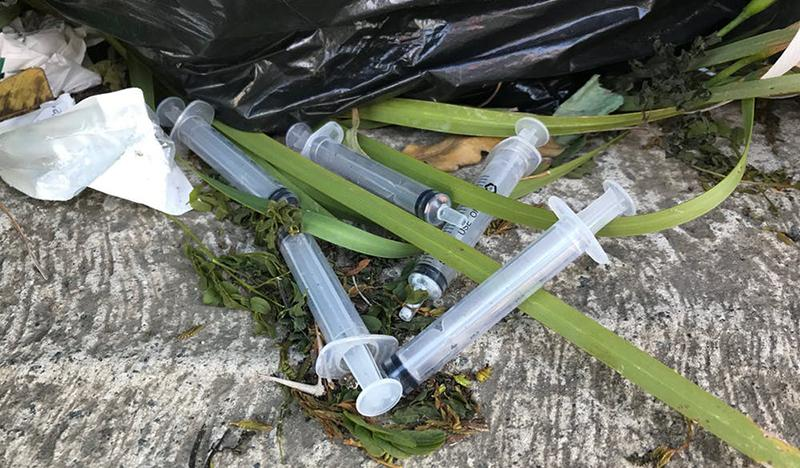Syringe: (382, 181, 634, 391), (279, 233, 401, 416), (286, 122, 467, 226), (476, 117, 548, 195)
